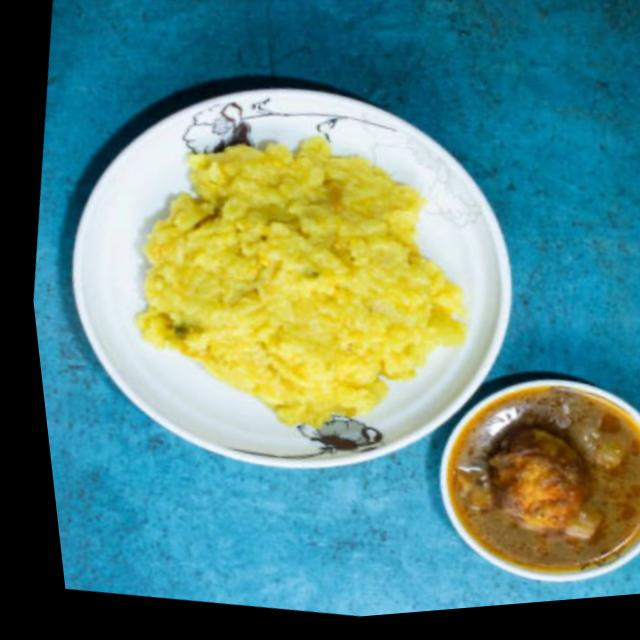CURRY: (443, 387, 640, 588)
SAMBAR RICE: (139, 161, 439, 434)
